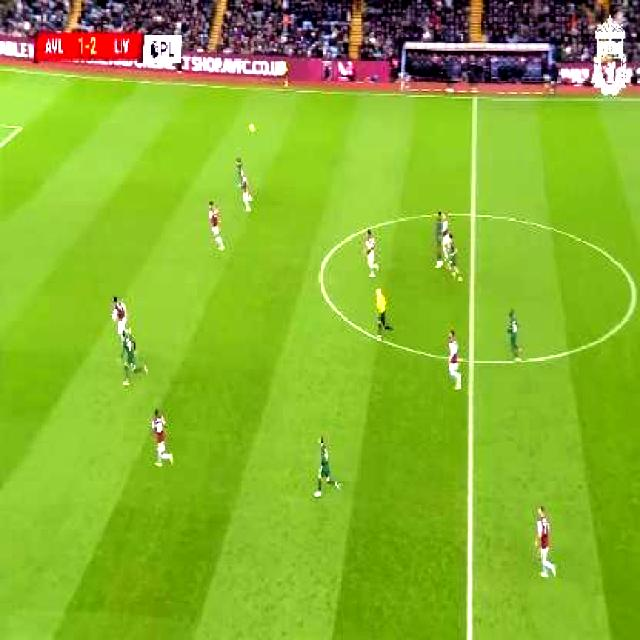bigarea_top_inner: (11, 117, 26, 137)
halfcircle_bottom: (460, 344, 482, 374)
halfcircle_top: (462, 200, 483, 226)
midline_top_intersection: (466, 86, 483, 106)
